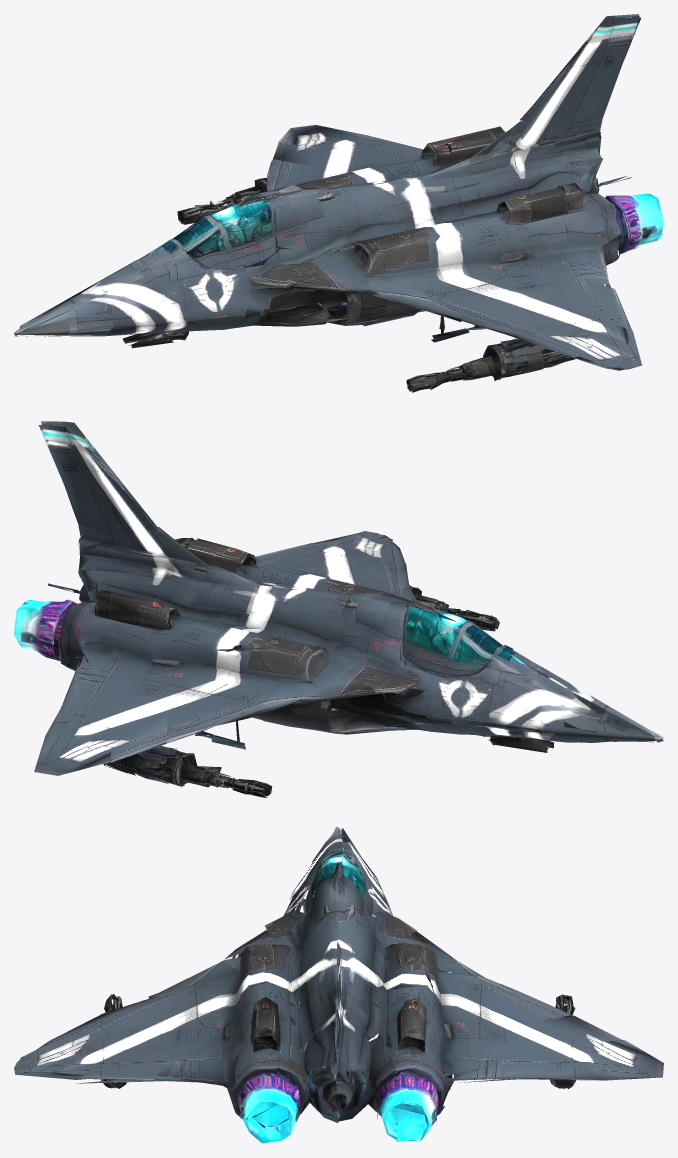
The model's file is confed_interceptor.glb.
The picture shows the model from 3 angles, top to bottom: view 1: azimuth 30°, elevation 25°; view 2: azimuth 150°, elevation 25°; view 3: azimuth 270°, elevation 25°; orthographic projection.
Parts seen in each view (by area): view 1: Mesh_0; view 2: Mesh_0; view 3: Mesh_0.
Part boxes in pixels (x1=…): Mesh_0: x1=14, y1=14, x2=663, y2=392; Mesh_0: x1=14, y1=421, x2=663, y2=797; Mesh_0: x1=14, y1=826, x2=663, y2=1143.
Size of the model in its own units: 1.01 by 0.3847 by 0.9168.
1 material, 1 textured.
